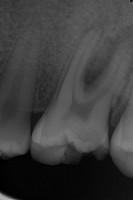Dental Caries: (84, 23, 133, 85)
